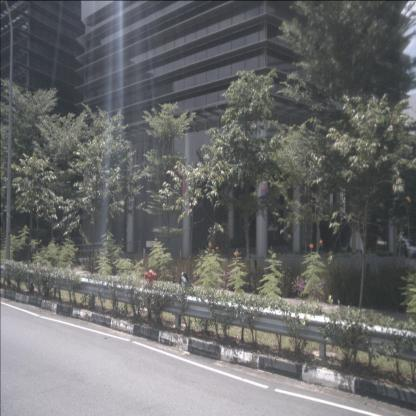vehicle-car: (394, 237, 415, 260)
